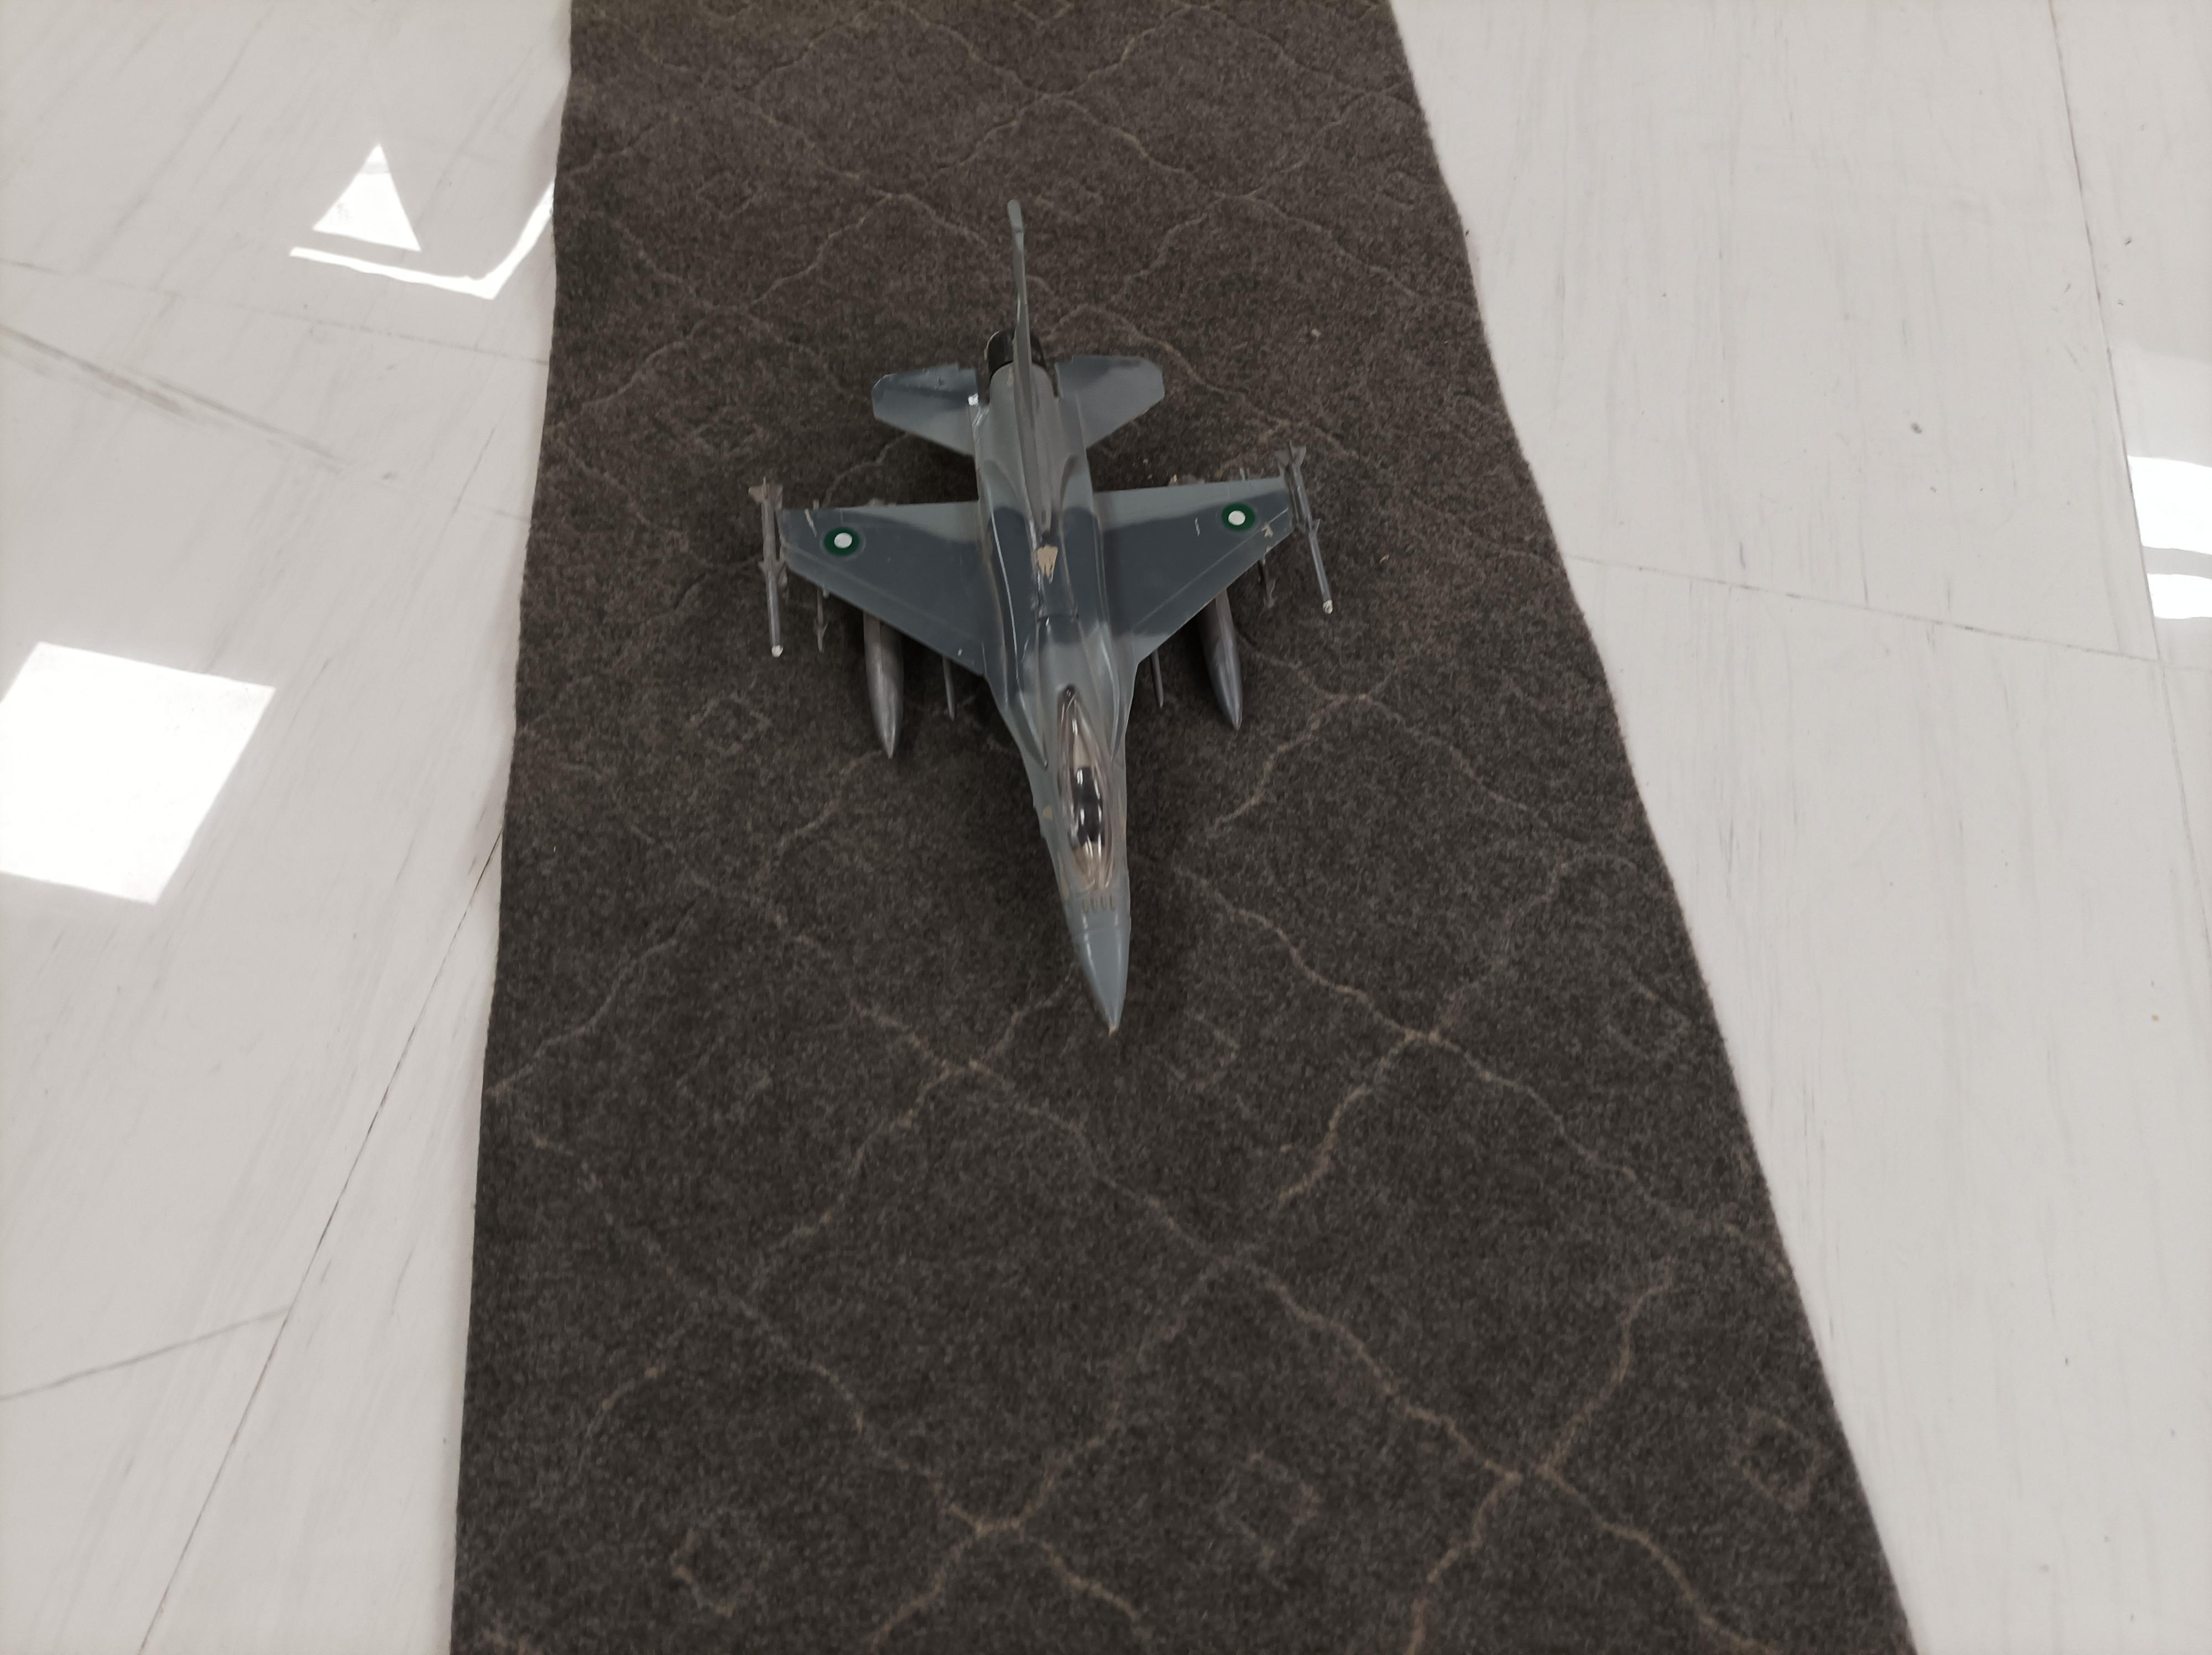Airplane: (747, 188, 1347, 1067)
